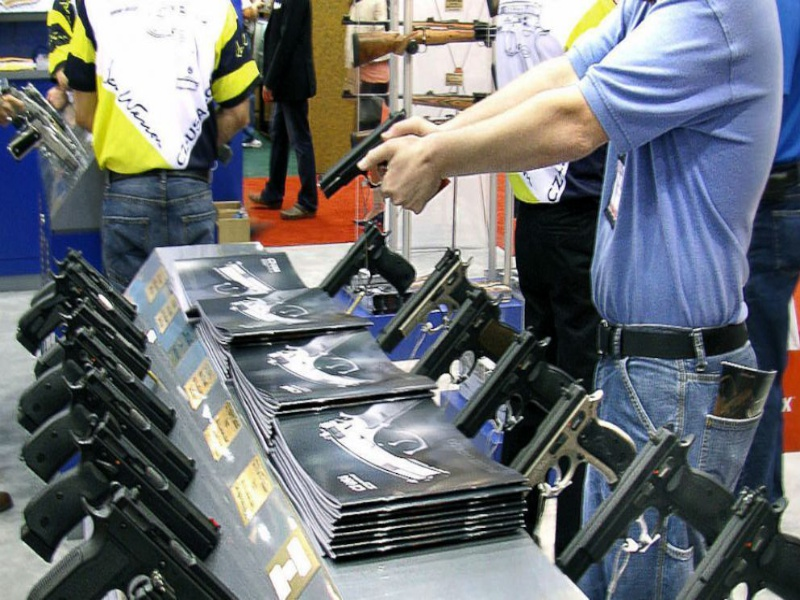gun: (555, 426, 755, 581), (20, 419, 220, 559), (28, 491, 257, 599), (510, 377, 650, 499), (454, 327, 593, 441), (27, 400, 211, 486), (317, 99, 447, 218), (675, 484, 800, 599), (19, 350, 187, 428), (376, 256, 495, 356), (413, 294, 532, 389), (16, 278, 154, 356), (320, 222, 426, 303), (341, 16, 514, 64)
